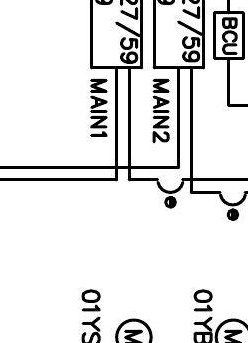BCU: (212, 10, 246, 61)
